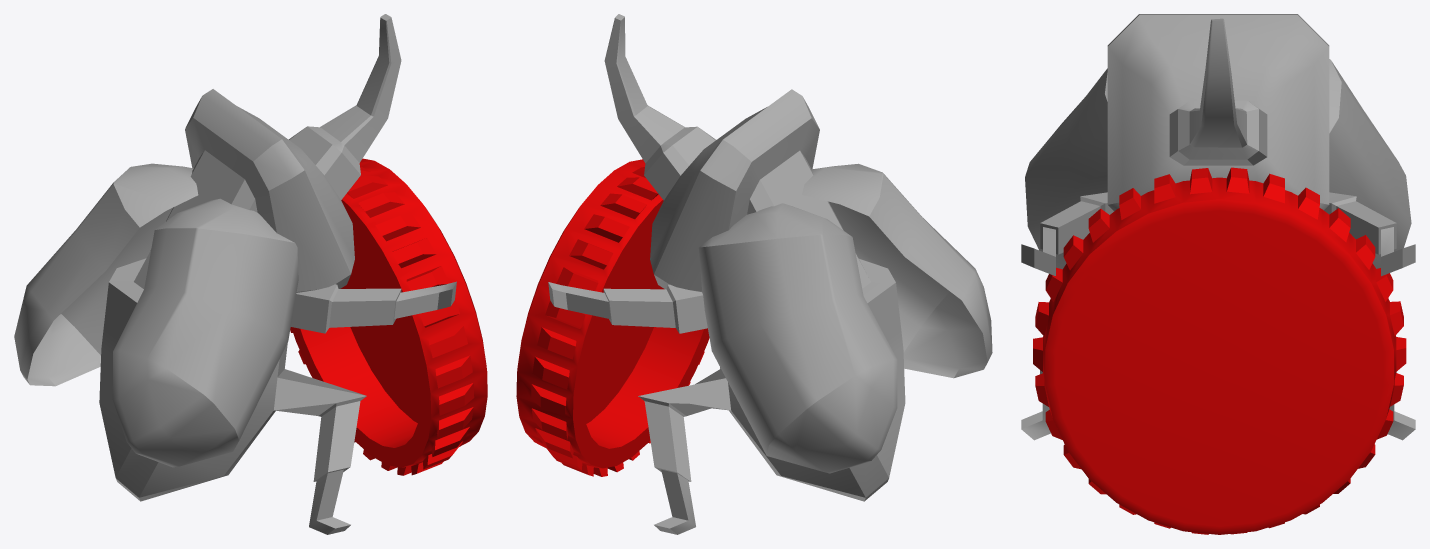
Rendered from BottleCap_Beetle.fbx.
3 renders of one model, left to right at view 1: azimuth 30°, elevation 25°; view 2: azimuth 150°, elevation 25°; view 3: azimuth 270°, elevation 25°, orthographic. The views are drawn at different scales.
Visible parts, largest first — view 1: pCube21, pCube20, pCylinder3; view 2: pCube21, pCube20, pCylinder3; view 3: pCylinder3, pCube20, pCube21.
Boxes of the visible parts, <box> form: pCube21: <box>14,163,298,467</box>; pCube20: <box>99,14,456,534</box>; pCylinder3: <box>290,158,487,475</box>; pCube21: <box>698,163,992,473</box>; pCube20: <box>548,14,905,534</box>; pCylinder3: <box>516,159,709,476</box>; pCylinder3: <box>1033,167,1406,534</box>; pCube20: <box>1021,14,1415,440</box>; pCube21: <box>1025,59,1411,269</box>.
Size of the model in its own units: 4.2 by 4.9 by 3.43.
